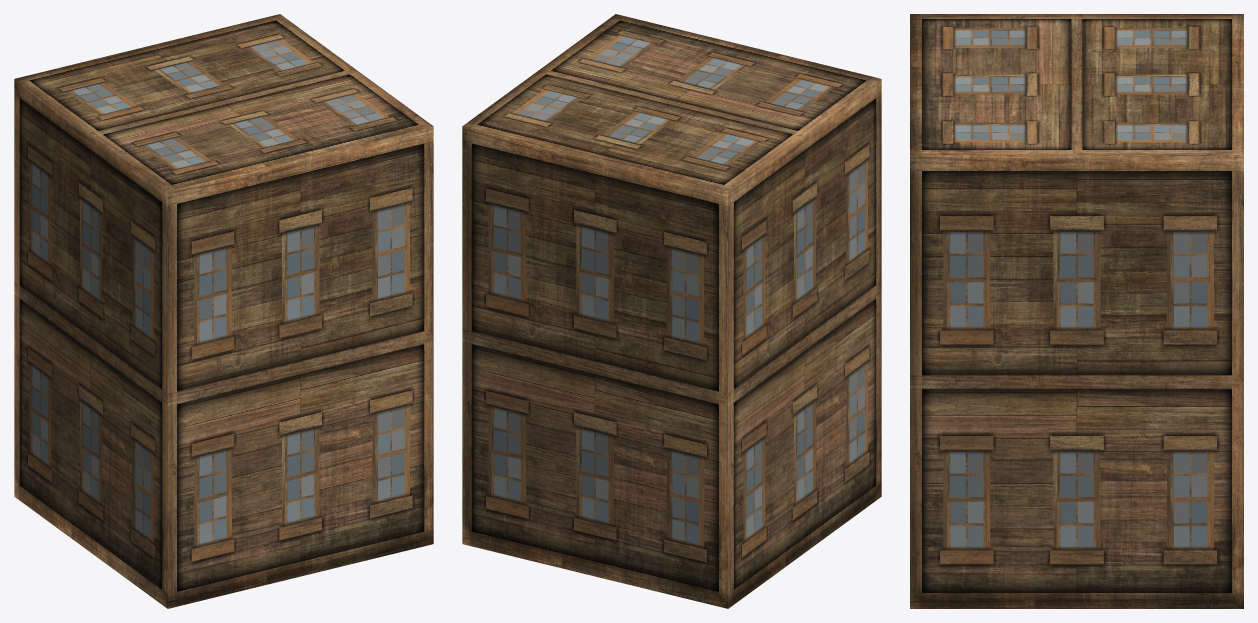
Rendered from House.obj.
3 renders of one model, left to right at view 1: azimuth 30°, elevation 25°; view 2: azimuth 150°, elevation 25°; view 3: azimuth 270°, elevation 25°, orthographic. The views are drawn at different scales.
Visible parts, largest first — view 1: Box001; view 2: Box001; view 3: Box001.
Boxes of the visible parts, <box> form: Box001: <box>14,14,433,608</box>; Box001: <box>462,14,881,608</box>; Box001: <box>910,14,1243,608</box>.
Size of the model in its own units: 10 by 15 by 10.
